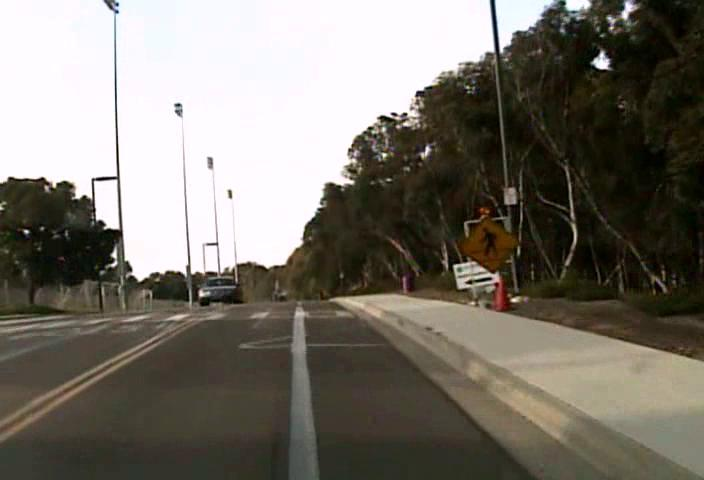pedestrianCrossing: (458, 214, 519, 274)
